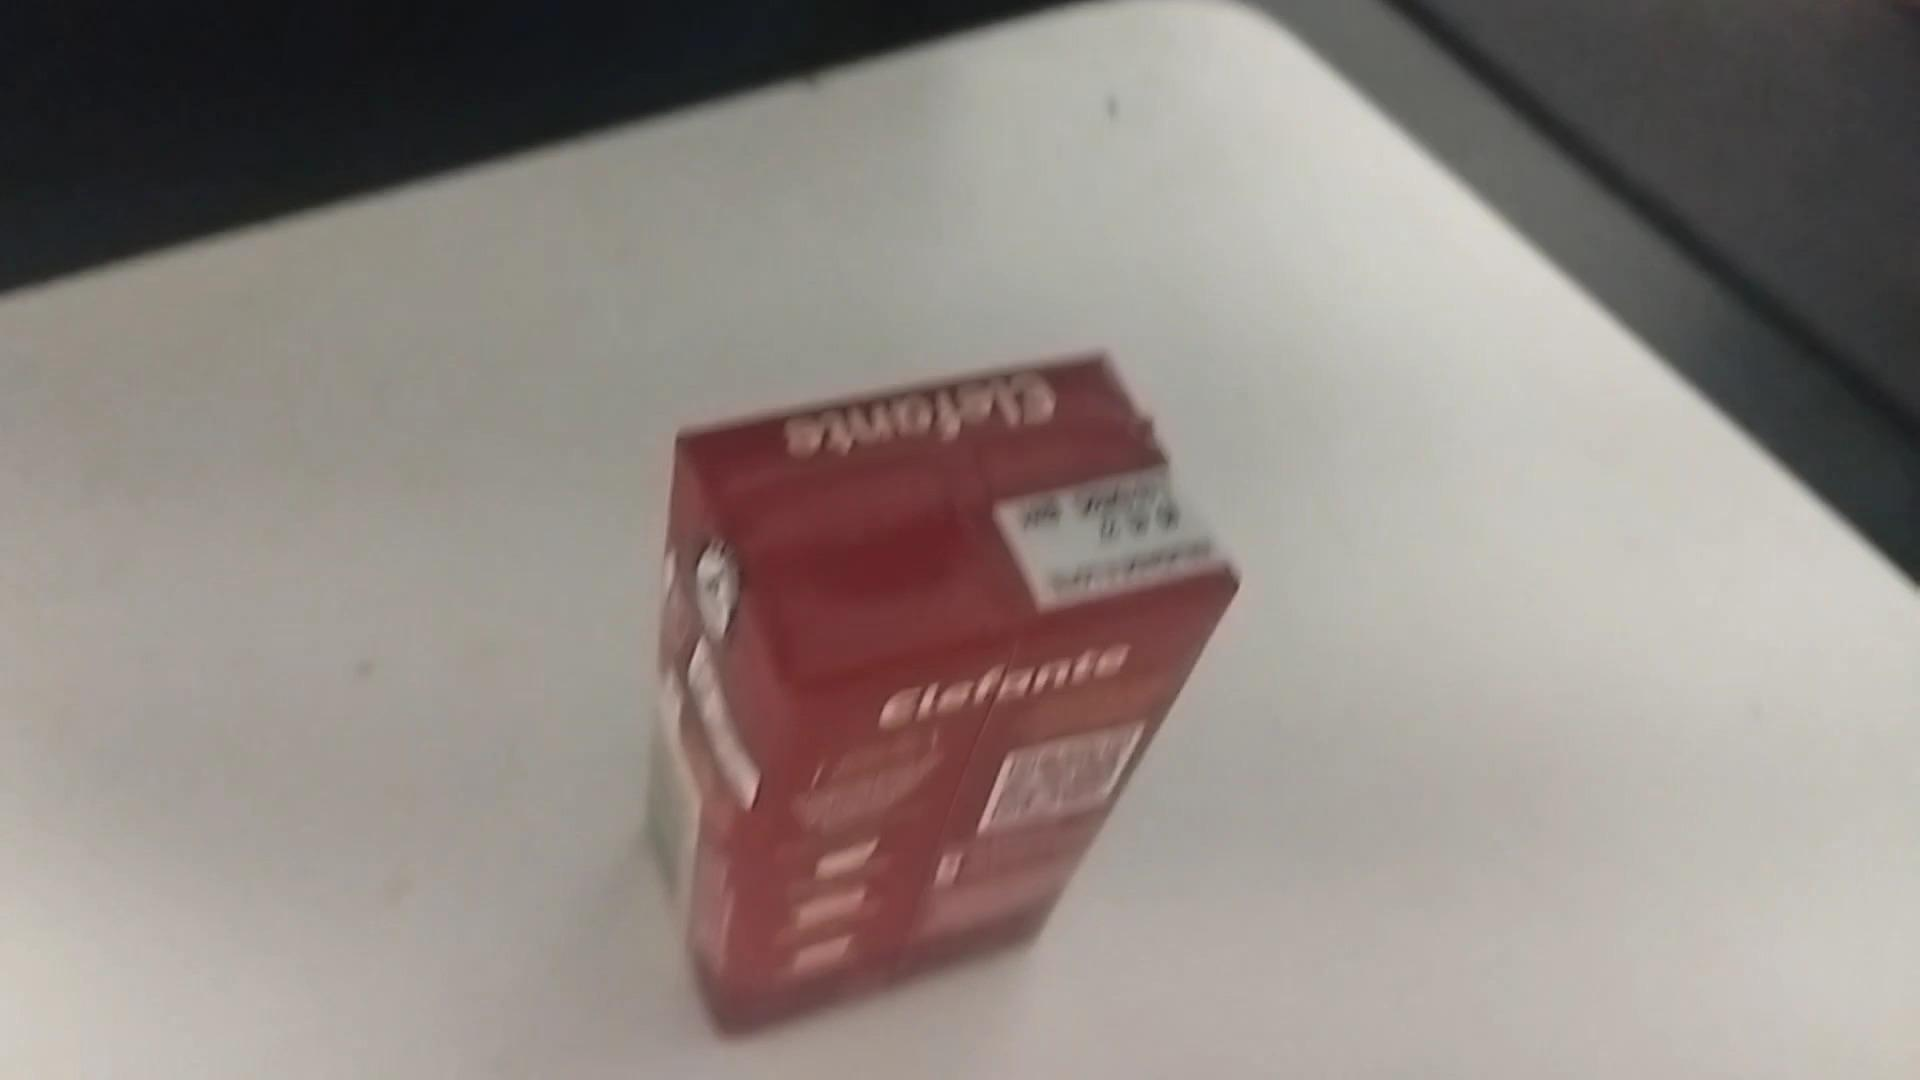tomate: (632, 335, 1262, 1043)
